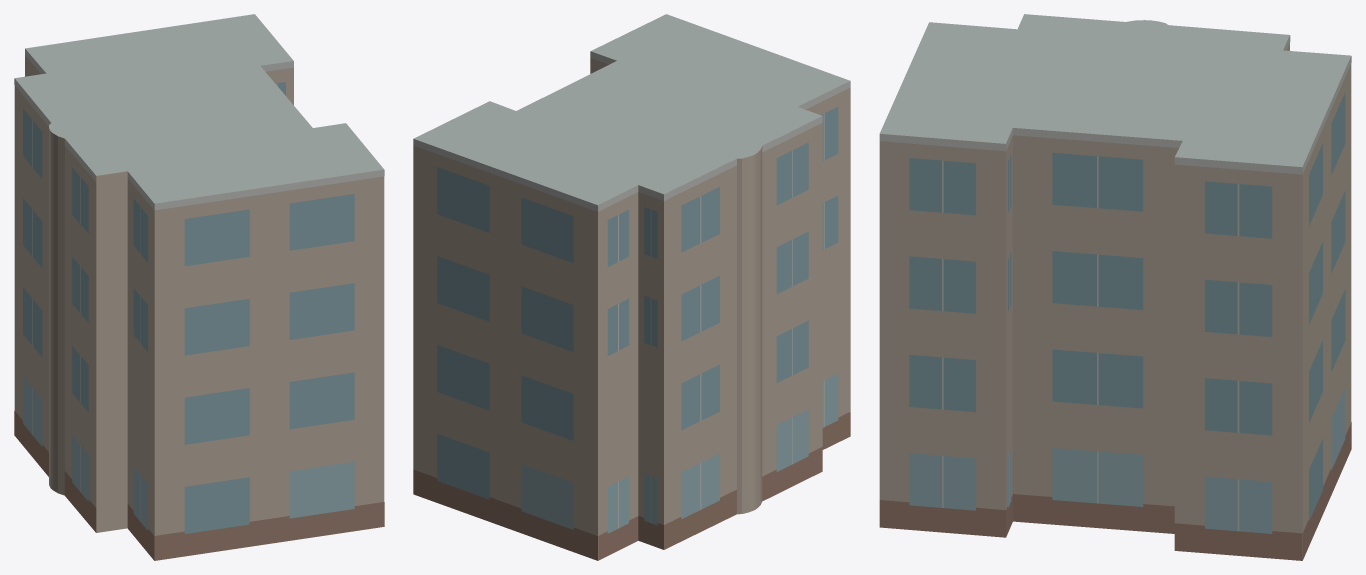
The model's file is survey-upis-32714438.glb.
3 views of the same model, side by side, from view 1: azimuth 30°, elevation 25°; view 2: azimuth 150°, elevation 25°; view 3: azimuth 270°, elevation 25° (orthographic). The views are drawn at different scales.
Parts seen in each view (by area): view 1: survey-upis-32714438.tmp; view 2: survey-upis-32714438.tmp; view 3: survey-upis-32714438.tmp.
Part boxes in pixels (<box>): survey-upis-32714438.tmp: <box>14,14,384,560</box>; survey-upis-32714438.tmp: <box>413,14,850,560</box>; survey-upis-32714438.tmp: <box>879,14,1351,560</box>.
Size of the model in its own units: 10.86 by 13 by 14.13.
